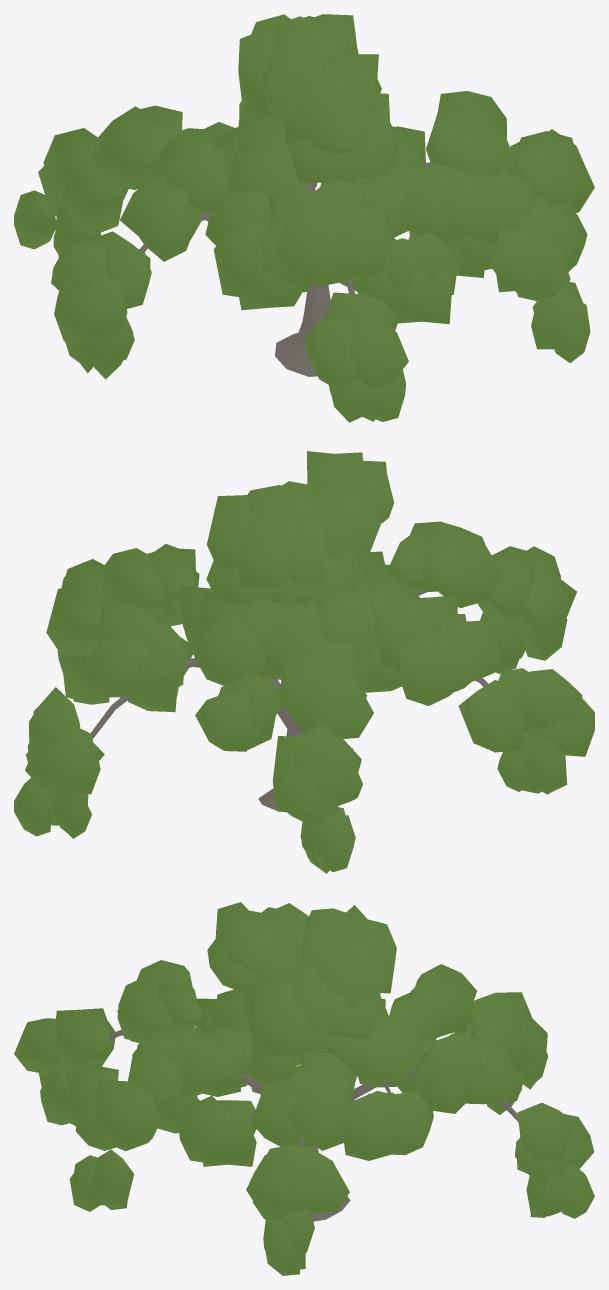
File: Blender_ValleyOak_2.glb
3 renders of one model, top to bottom at view 1: azimuth 30°, elevation 25°; view 2: azimuth 150°, elevation 25°; view 3: azimuth 270°, elevation 25°, orthographic. The views are drawn at different scales.
Visible parts, largest first — view 1: Blender_ValleyOak_2; view 2: Blender_ValleyOak_2; view 3: Blender_ValleyOak_2.
Boxes of the visible parts, left/top/right/bottom form: Blender_ValleyOak_2: left=14, top=14, right=594, bottom=422; Blender_ValleyOak_2: left=14, top=451, right=594, bottom=873; Blender_ValleyOak_2: left=14, top=902, right=594, bottom=1275.
Size of the model in its own units: 35.85 by 21.61 by 37.61.
